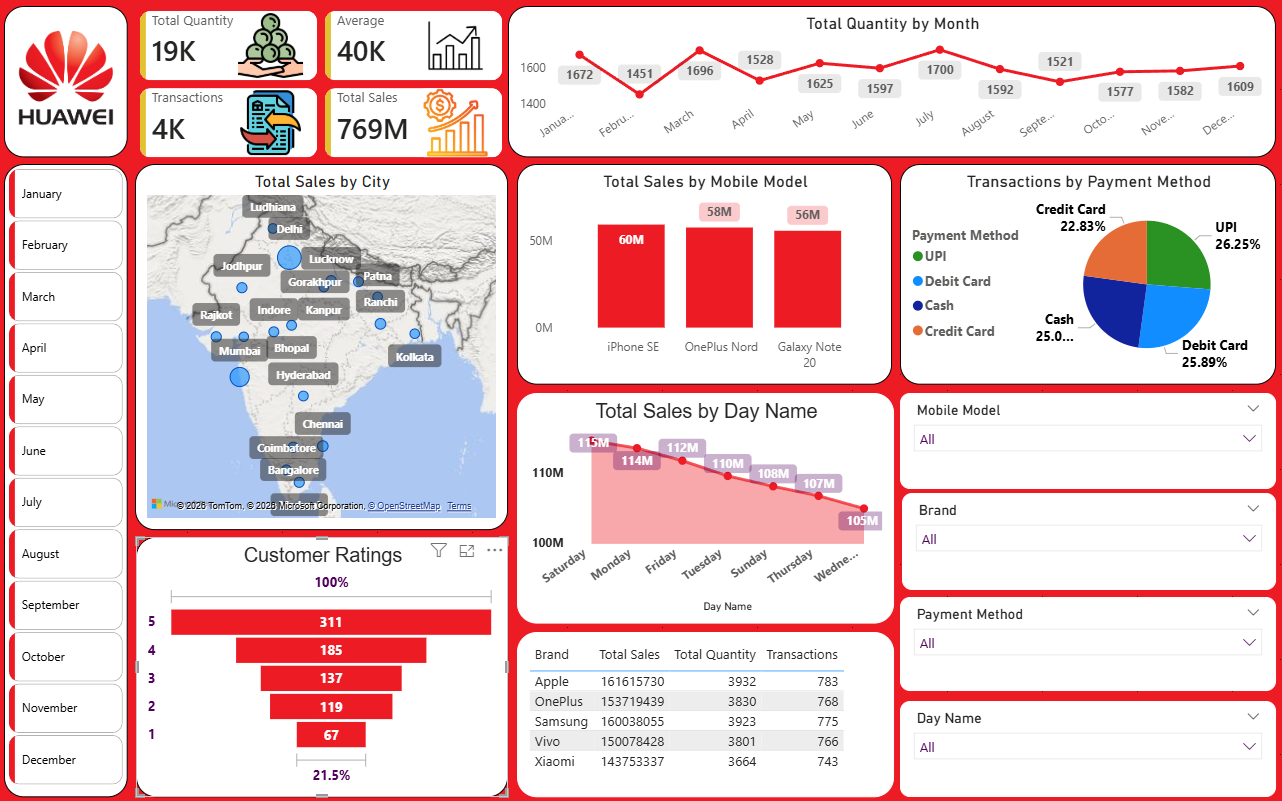

The dashboard page shown, as its layout file describes it:
{"tool":"powerbi","page":{"name":"Page 1","canvas":[1300,820],"ordinal":0},"visuals":[{"type":"shape","box":[7.1,12.1,125.3,152.6],"z":0},{"type":"image","box":[19.2,12.1,101.1,145.5],"z":1000},{"type":"shape","box":[7.1,171.8,125.3,639.7],"z":2000},{"type":"advancedSlicerVisual","fields":{"Values":["Sales_Data.Date.Variation.Date Hierarchy.Month"]},"box":[7.1,179.9,125.3,639.7],"z":3000},{"type":"cardVisual","fields":{"Data":["Sales_Data.Total Quantity","Sales_Data.Average","Sales_Data.Transactions","Sales_Data.Total Sales"]},"box":[139.5,12.1,376.9,159.7],"z":4000},{"type":"map","fields":{"Category":["Sales_Data.City"],"Size":["Sales_Data.Total Sales"]},"box":[139.5,171.8,376.9,369.9],"z":5000},{"type":"lineChart","fields":{"Y":["Sales_Data.Total Quantity"],"Category":["Sales_Data.Date.Variation.Date Hierarchy.Month","Sales_Data.Date.Variation.Date Hierarchy.Day"]},"box":[516.4,12.1,776.1,152.6],"z":6000},{"type":"clusteredColumnChart","fields":{"Category":["Sales_Data.Mobile Model"],"Y":["Sales_Data.Total Sales"]},"box":[525.5,171.8,378.9,223.3],"z":7000},{"type":"pieChart","fields":{"Category":["Sales_Data.Payment Method"],"Y":["Sales_Data.Transactions"]},"box":[912.5,171.8,380,223.3],"z":8000},{"type":"funnel","title":"Customer Ratings","fields":{"Category":["Sales_Data.Customer Ratings"],"Y":["CountNonNull(Sales_Data.Customer Ratings)"]},"box":[140.5,548.7,375.9,262.7],"z":9000},{"type":"areaChart","fields":{"Category":["Sales_Data.Day Name"],"Y":["Sales_Data.Total Sales"]},"box":[525.5,403.2,381,233.4],"z":10000},{"type":"tableEx","fields":{"Values":["Sales_Data.Brand","Sales_Data.Total Sales","Sales_Data.Total Quantity","Sales_Data.Transactions"]},"box":[525.5,644.7,381,166.7],"z":11000},{"type":"slicer","fields":{"Values":["Sales_Data.Mobile Model"]},"box":[912.5,403.2,380,97],"z":12000},{"type":"slicer","fields":{"Values":["Sales_Data.Payment Method"]},"box":[912.5,609.3,380,95],"z":13000},{"type":"slicer","fields":{"Values":["Sales_Data.Brand"]},"box":[914.5,504.3,377.9,98],"z":14000},{"type":"slicer","fields":{"Values":["Sales_Data.Day Name"]},"box":[912.5,714.4,380,97],"z":15000}]}

Visuals, with their boxes in screenshot pixels (x1, y1, x2, y2), scaled from the page's 1300x820 canvas onto the 1282x801 screenshot:
shape: bbox=(7, 12, 131, 161)
image: bbox=(19, 12, 119, 154)
shape: bbox=(7, 168, 131, 793)
advancedSlicerVisual - Sales_Data.Date.Variation.Date Hierarchy.Month: bbox=(7, 176, 131, 800)
cardVisual - Sales_Data.Total Quantity x Sales_Data.Average: bbox=(138, 12, 509, 168)
map - Sales_Data.City x Sales_Data.Total Sales: bbox=(138, 168, 509, 529)
lineChart - Sales_Data.Total Quantity x Sales_Data.Date.Variation.Date Hierarchy.Month: bbox=(509, 12, 1275, 161)
clusteredColumnChart - Sales_Data.Mobile Model x Sales_Data.Total Sales: bbox=(518, 168, 892, 386)
pieChart - Sales_Data.Payment Method x Sales_Data.Transactions: bbox=(900, 168, 1275, 386)
"Customer Ratings" funnel: bbox=(139, 536, 509, 793)
areaChart - Sales_Data.Day Name x Sales_Data.Total Sales: bbox=(518, 394, 894, 622)
tableEx - Sales_Data.Brand x Sales_Data.Total Sales: bbox=(518, 630, 894, 793)
slicer - Sales_Data.Mobile Model: bbox=(900, 394, 1275, 489)
slicer - Sales_Data.Payment Method: bbox=(900, 595, 1275, 688)
slicer - Sales_Data.Brand: bbox=(902, 493, 1275, 588)
slicer - Sales_Data.Day Name: bbox=(900, 698, 1275, 793)
